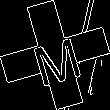M_N: (26, 25, 84, 85)
